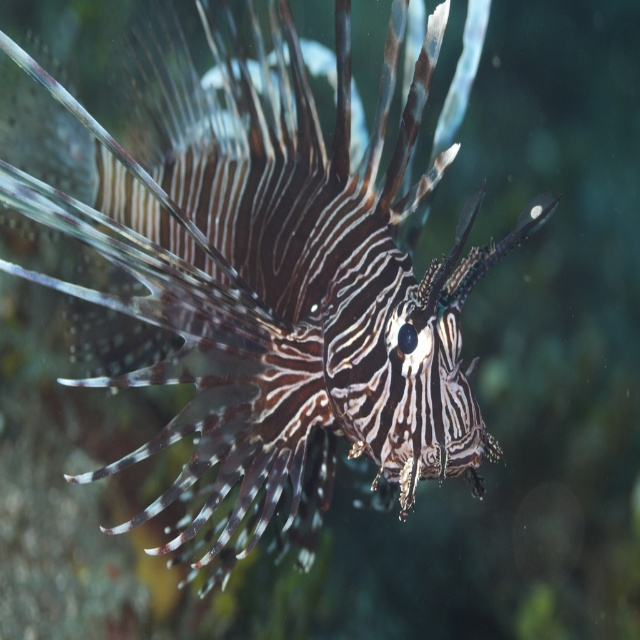Fish: (0, 0, 561, 602)
